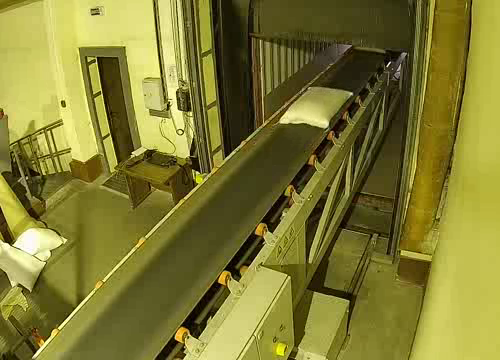bag: (277, 83, 355, 128), (352, 43, 388, 54)
